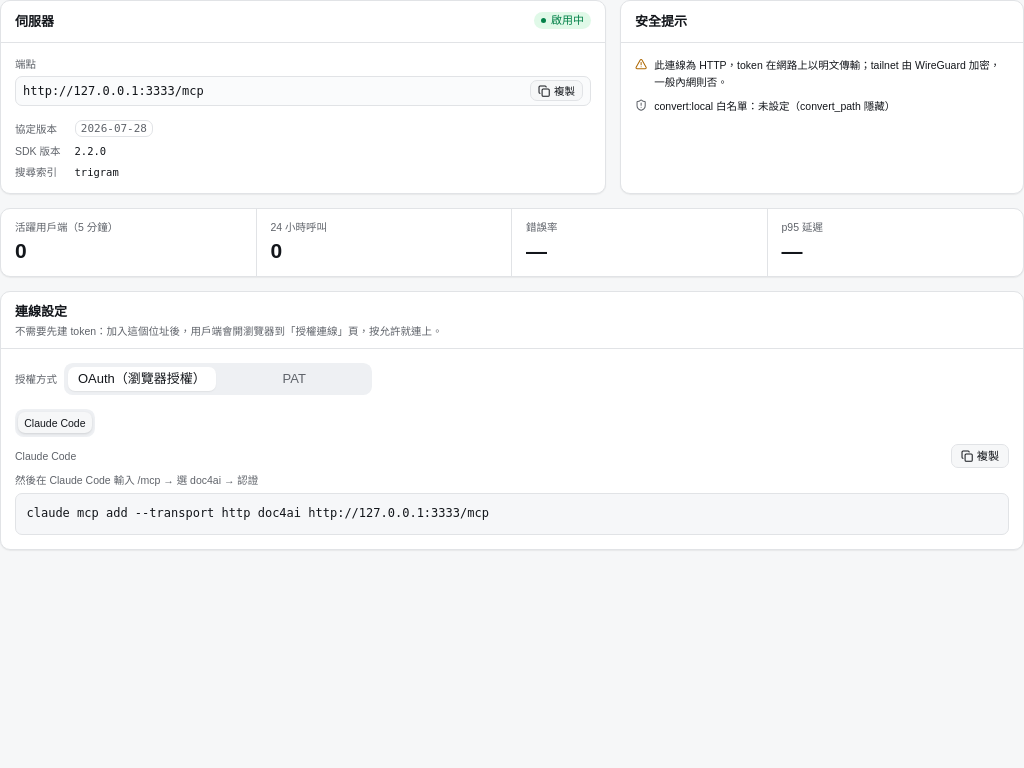
Scenario: OAuth is the default: no token field, the two-step hint; PAT brings the placeholder back
expect the text "然後在 Claude Code 輸入 /mcp → 選 doc4ai → 認證" is shown: met, box [15,474,258,486]
expect the field labelled "貼上 token" is not shown: met
Click the radio button labelled "PAT" at (294, 379), box [220,366,369,391]
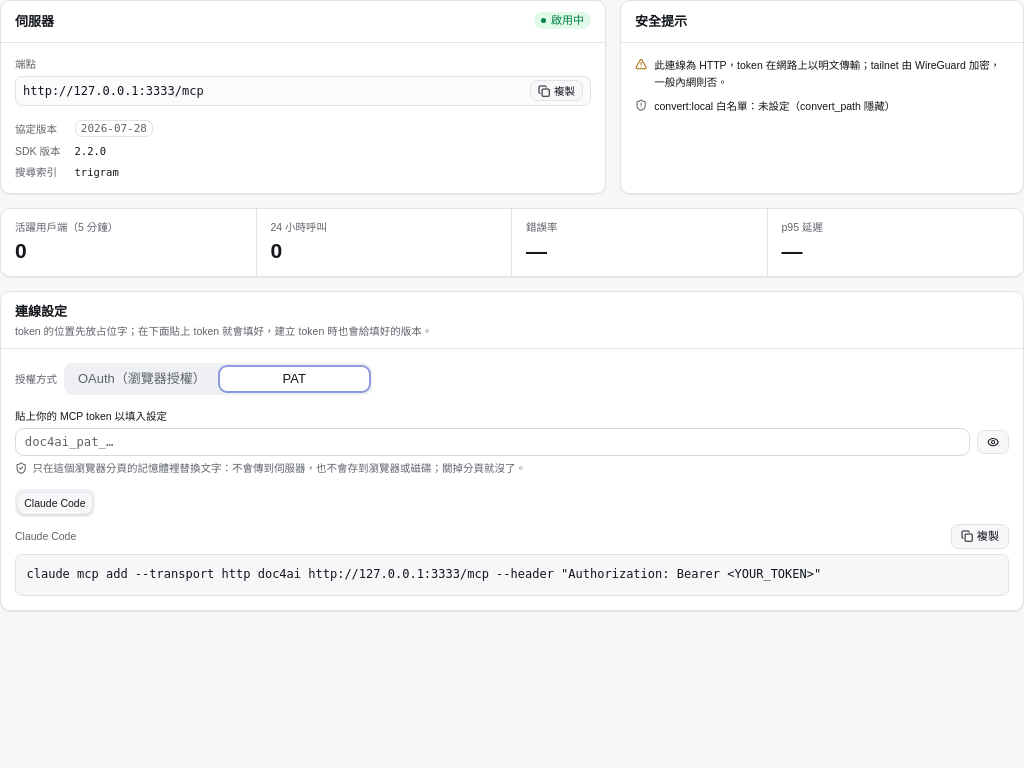
expect the text "<YOUR_TOKEN>" is shown: met, box [26,567,821,581]
